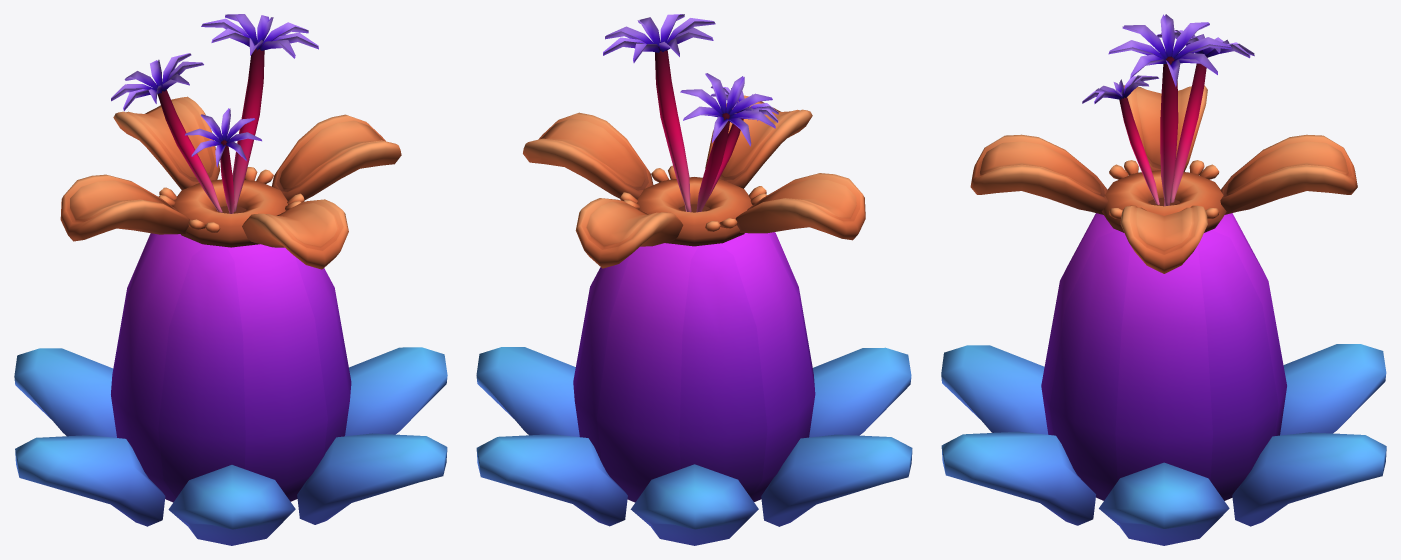
The model's file is wp_noPot_1.fbx.
3 views of the same model, side by side, from view 1: azimuth 30°, elevation 25°; view 2: azimuth 150°, elevation 25°; view 3: azimuth 270°, elevation 25° (orthographic). The views are drawn at different scales.
Visible parts, largest first — view 1: w_pl1.003; view 2: w_pl1.003; view 3: w_pl1.003.
Part boxes in pixels (box(x1,y1,x2,y2)): w_pl1.003: box(14, 14, 447, 545); w_pl1.003: box(476, 14, 912, 545); w_pl1.003: box(941, 14, 1386, 545).
Size of the model in its own units: 124 by 130 by 109.
